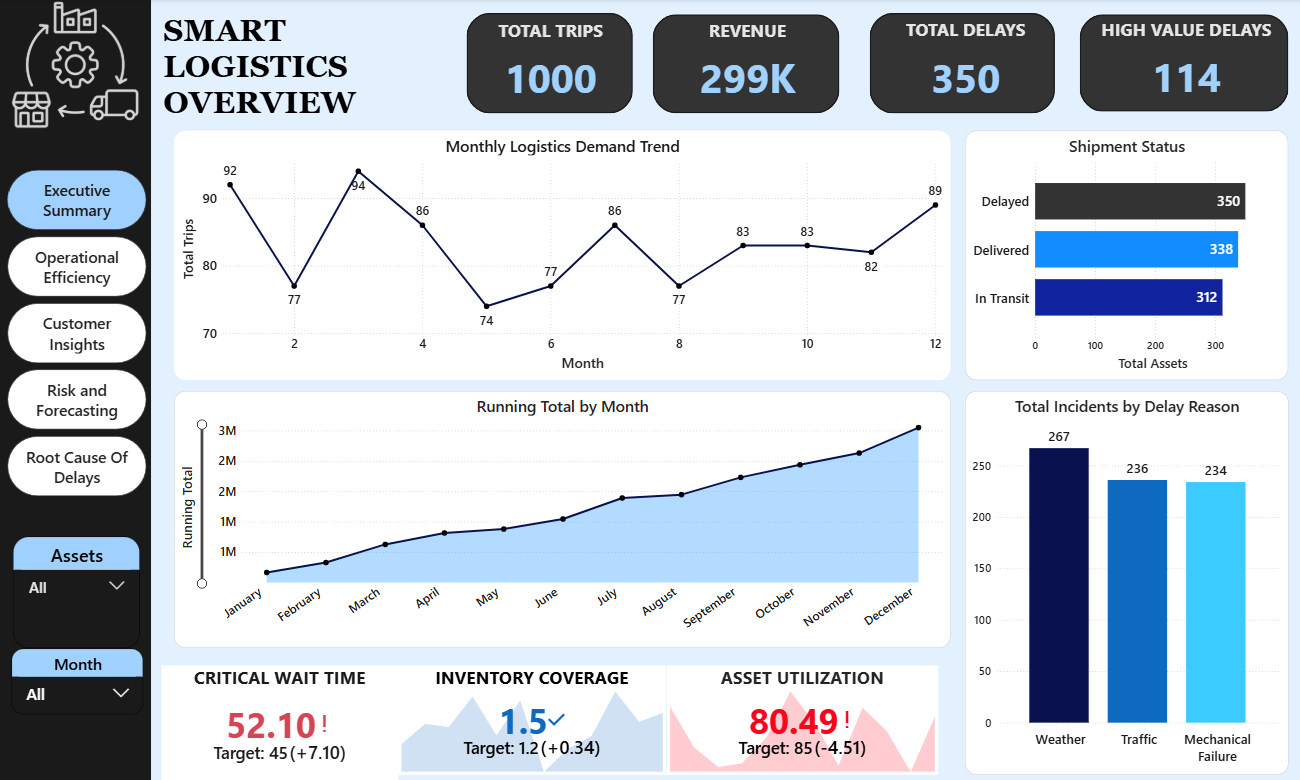

This screenshot's page, from the dashboard's own definition file:
{"tool":"powerbi","page":{"name":"Executive Summary","canvas":[2000,1200],"ordinal":0},"visuals":[{"type":"shape","box":[0,0,233,1201],"z":0},{"type":"shape","box":[1001.6,22.8,285.8,151.3],"z":0,"group":"g1"},{"type":"kpi","title":"ASSET UTILIZATION","fields":{"TrendLine":["Calendar.Date.Variation.Date Hierarchy.Month"],"Goal":["vw_StandardizedData.Uti Target"],"Indicator":["Avg(vw_StandardizedData.Asset_Utilization)"]},"box":[1022.2,1020.7,415.5,168.1],"z":0,"group":"g2"},{"type":"shape","box":[715.8,21.6,254.6,153.7],"z":1000,"group":"g1"},{"type":"clusteredColumnChart","title":"Total Incidents by Delay Reason","fields":{"Category":["vw_DelaySummary.Logistics_Delay_Reason"],"Y":["Sum(vw_DelaySummary.Total_Incidents)"]},"box":[1479.6,600.4,495.4,587.6],"z":1000},{"type":"kpi","title":"INVENTORY COVERAGE","fields":{"Indicator":["vw_InventoryRisks.Inventory Coverage"],"TrendLine":["Calendar.Date.Variation.Date Hierarchy.Month"],"Goal":["vw_InventoryRisks.Target coverage"]},"box":[611.5,1020.7,410.7,168.1],"z":1000,"group":"g2"},{"type":"shape","box":[1333.1,21.6,283.4,153.7],"z":2000,"group":"g1"},{"type":"areaChart","title":"Running Total by Month","fields":{"Category":["vw_CumulativeRevenue.Trip_Date.Variation.Date Hierarchy.Month","vw_CumulativeRevenue.Trip_Date.Variation.Date Hierarchy.Day"],"Y":["Sum(vw_CumulativeRevenue.Running_Total)"]},"box":[269,600.5,1189,393.9],"z":2000},{"type":"kpi","title":"CRITICAL WAIT TIME","fields":{"TrendLine":["Calendar.Date.Variation.Date Hierarchy.Month"],"Goal":["vw_CriticalDelays.Target"],"Indicator":["Avg(vw_CriticalDelays.Avg_Wait_Time)"]},"box":[248.8,1020.7,362.7,180.1],"z":2000,"group":"g2"},{"type":"card","title":"TOTAL TRIPS","fields":{"Values":["CountNonNull(vw_StandardizedData.Trip_Date)"]},"box":[752.4,30.2,185,139.3],"z":3000,"group":"g1"},{"type":"clusteredBarChart","title":"Shipment Status","fields":{"Category":["vw_StandardizedData.Shipment_Status"],"Y":["CountNonNull(vw_StandardizedData.Asset_ID)"]},"box":[1479.6,201.8,494.8,381.9],"z":3000},{"type":"card","title":"REVENUE","fields":{"Values":["Sum(vw_CumulativeRevenue.User_Transaction_Amount)"]},"box":[1042.5,30.2,209,139.3],"z":4000,"group":"g1"},{"type":"slicer","title":"Assets","fields":{"Values":["vw_StandardizedData.Asset_ID"]},"box":[21.6,823.9,194.6,170.5],"z":4000},{"type":"shape","box":[1655,24,319.5,148.9],"z":5000,"group":"g1"},{"type":"slicer","title":"Month","fields":{"Values":["Calendar.Date.Variation.Date Hierarchy.Month"]},"box":[19.2,994.4,201.8,100.9],"z":5000},{"type":"card","title":"HIGH VALUE DELAYS","fields":{"Values":["Measure Table.High-Value Delays"]},"box":[1683.8,29,271.4,141.7],"z":6000,"group":"g1"},{"type":"areaChart","title":"Monthly Logistics Demand Trend","fields":{"Category":["vw_MonthlyTrends.Trip_Month"],"Y":["Sum(vw_MonthlyTrends.Total_Trips)"]},"box":[269,201.8,1189,381.9],"z":6000},{"type":"card","title":"TOTAL DELAYS","fields":{"Values":["vw_StandardizedData.Total Delays"]},"box":[1381.1,27.8,199.4,144.1],"z":7000,"group":"g1"},{"type":"pageNavigator","title":"Navigate","box":[12,261.8,213.8,502],"z":7000},{"type":"textbox","title":"Title","box":[247.4,14.4,468.4,187.4],"z":8000},{"type":"image","title":"Logo","box":[9.6,0,216.2,201.8],"z":9000},{"type":"group","id":"g1","title":"KPIS","box":[715.8,21.6,1258.6,153.7],"z":10000},{"type":"group","id":"g2","title":"Modern KPIs","box":[248.8,1020.7,1190.1,180.1],"z":11000}]}

Visuals, with their boxes in screenshot pixels (x1, y1, x2, y2), scaled from the page's 2000x1200 canvas onto the 1300x780 screenshot:
shape: pyautogui.locateOnScreen(0, 0, 151, 779)
shape: pyautogui.locateOnScreen(651, 15, 837, 113)
"ASSET UTILIZATION" kpi: pyautogui.locateOnScreen(664, 663, 935, 773)
shape: pyautogui.locateOnScreen(465, 14, 631, 114)
"Total Incidents by Delay Reason" clusteredColumnChart: pyautogui.locateOnScreen(962, 390, 1284, 772)
"INVENTORY COVERAGE" kpi: pyautogui.locateOnScreen(397, 663, 664, 773)
shape: pyautogui.locateOnScreen(867, 14, 1051, 114)
"Running Total by Month" areaChart: pyautogui.locateOnScreen(175, 390, 948, 646)
"CRITICAL WAIT TIME" kpi: pyautogui.locateOnScreen(162, 663, 397, 779)
"TOTAL TRIPS" card: pyautogui.locateOnScreen(489, 20, 609, 110)
"Shipment Status" clusteredBarChart: pyautogui.locateOnScreen(962, 131, 1283, 379)
"REVENUE" card: pyautogui.locateOnScreen(678, 20, 813, 110)
"Assets" slicer: pyautogui.locateOnScreen(14, 536, 141, 646)
shape: pyautogui.locateOnScreen(1076, 16, 1283, 112)
"Month" slicer: pyautogui.locateOnScreen(12, 646, 144, 712)
"HIGH VALUE DELAYS" card: pyautogui.locateOnScreen(1094, 19, 1271, 111)
"Monthly Logistics Demand Trend" areaChart: pyautogui.locateOnScreen(175, 131, 948, 379)
"TOTAL DELAYS" card: pyautogui.locateOnScreen(898, 18, 1027, 112)
"Navigate" pageNavigator: pyautogui.locateOnScreen(8, 170, 147, 496)
"Title" textbox: pyautogui.locateOnScreen(161, 9, 465, 131)
"Logo" image: pyautogui.locateOnScreen(6, 0, 147, 131)
"KPIS" group: pyautogui.locateOnScreen(465, 14, 1283, 114)
"Modern KPIs" group: pyautogui.locateOnScreen(162, 663, 935, 779)
